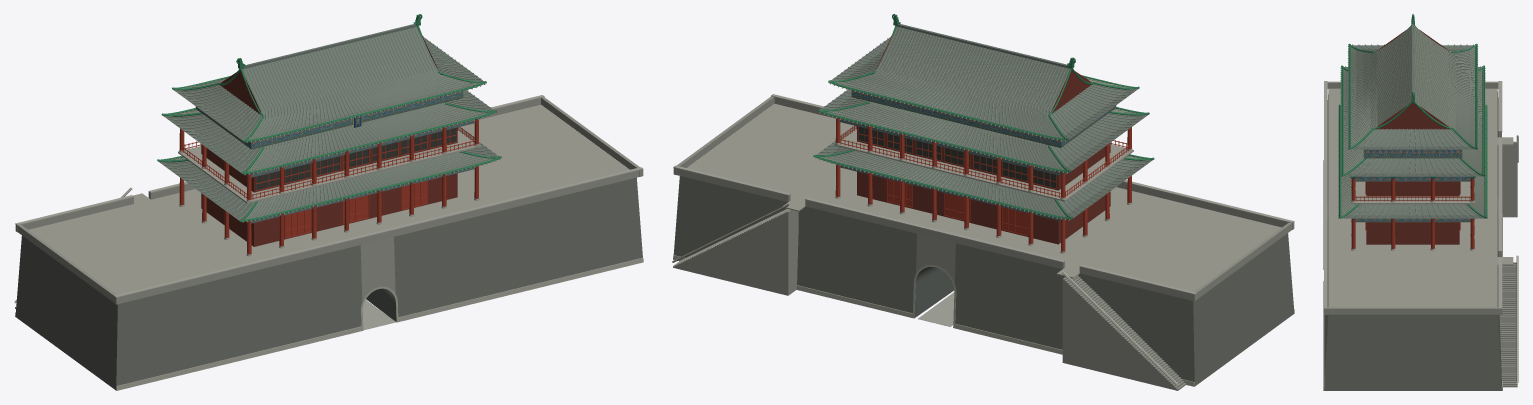
File: qianmen-preview.glb
The picture shows the model from 3 angles, left to right: view 1: azimuth 30°, elevation 25°; view 2: azimuth 150°, elevation 25°; view 3: azimuth 270°, elevation 25°; orthographic projection. The views are drawn at different scales.
Parts seen in each view (by area): view 1: qianmen mortar, qianmen deck, qianmen roof, qianmen tile, qianmen brick2, qianmen red, qianmen stone, qianmen redDark, qianmen gold, qianmen frieze, qianmen window, qianmen brick1 (+1 smaller); view 2: qianmen mortar, qianmen deck, qianmen roof, qianmen brick2, qianmen tile, qianmen red, qianmen stone, qianmen redDark, qianmen gold, qianmen frieze, qianmen window, qianmen reveal (+1 smaller); view 3: qianmen roof, qianmen deck, qianmen mortar, qianmen tile, qianmen brick2, qianmen redDark, qianmen stone, qianmen gold, qianmen frieze, qianmen red.
Part boxes in pixels (box(x1,y1,x2,y2)): qianmen mortar: box(15, 177, 642, 390); qianmen deck: box(28, 104, 629, 294); qianmen roof: box(158, 24, 497, 221); qianmen tile: box(159, 27, 500, 222); qianmen brick2: box(15, 97, 643, 308); qianmen red: box(179, 119, 478, 254); qianmen stone: box(14, 95, 643, 390); qianmen redDark: box(201, 34, 457, 246); qianmen gold: box(157, 14, 501, 221); qianmen frieze: box(195, 91, 475, 223); qianmen window: box(256, 128, 455, 190); qianmen brick1: box(360, 237, 395, 301); qianmen mortar: box(673, 176, 1294, 386); qianmen deck: box(687, 103, 1281, 291); qianmen roof: box(817, 24, 1152, 219); qianmen brick2: box(673, 96, 1294, 390); qianmen tile: box(815, 26, 1151, 220); qianmen red: box(835, 118, 1131, 251); qianmen stone: box(672, 94, 1294, 386); qianmen redDark: box(857, 34, 1110, 244); qianmen gold: box(813, 14, 1154, 219); qianmen frieze: box(839, 90, 1116, 221); qianmen window: box(858, 127, 1056, 188); qianmen reveal: box(914, 267, 954, 317); qianmen roof: box(1339, 24, 1485, 218); qianmen deck: box(1328, 88, 1513, 307); qianmen mortar: box(1324, 92, 1501, 390); qianmen tile: box(1338, 26, 1487, 218); qianmen brick2: box(1324, 81, 1517, 387); qianmen redDark: box(1366, 29, 1459, 244); qianmen stone: box(1323, 81, 1518, 390); qianmen gold: box(1338, 14, 1487, 218); qianmen frieze: box(1355, 149, 1470, 222); qianmen red: box(1351, 178, 1474, 248).
Bounding box in the file's own units: 0.95 × 0.4365 × 0.3449.
16 materials, 1 textured.
